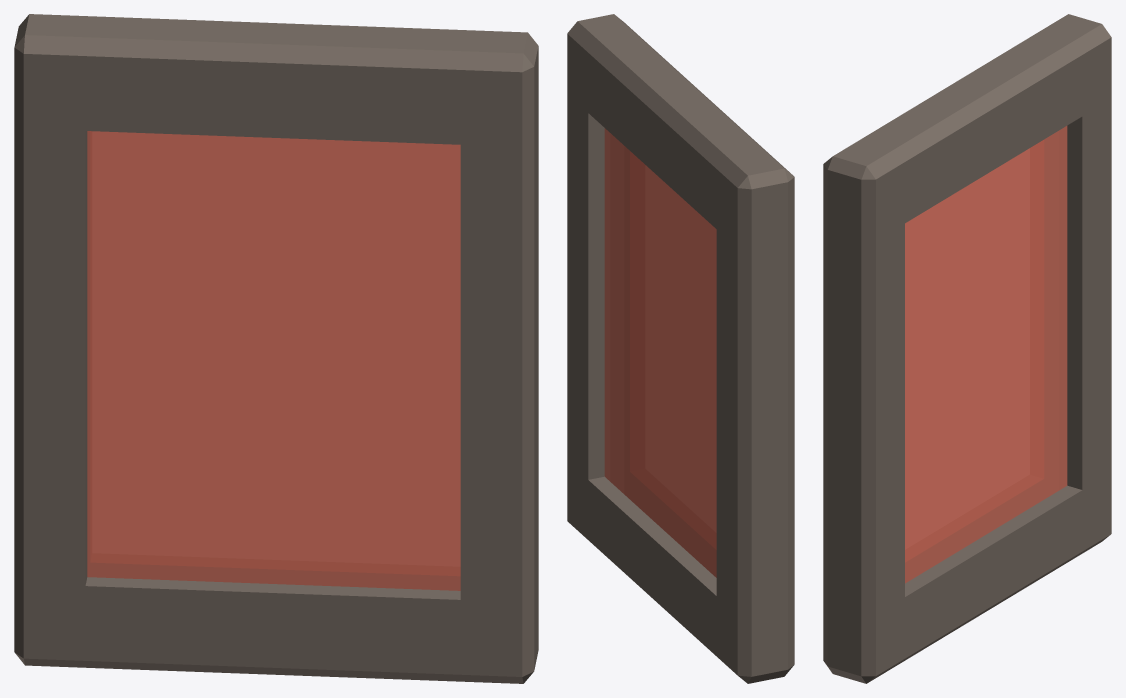
File: red_scarab.gltf
3 views of the same model, side by side, from view 1: azimuth 30°, elevation 25°; view 2: azimuth 150°, elevation 25°; view 3: azimuth 270°, elevation 25° (orthographic). The views are drawn at different scales.
Visible parts, largest first — view 1: red_scarab; view 2: red_scarab; view 3: red_scarab.
Boxes of the visible parts, <box> form: red_scarab: <box>14,14,538,683</box>; red_scarab: <box>567,14,794,683</box>; red_scarab: <box>823,14,1111,683</box>.
Size of the model in its own units: 1.57 by 2.4 by 1.21.
